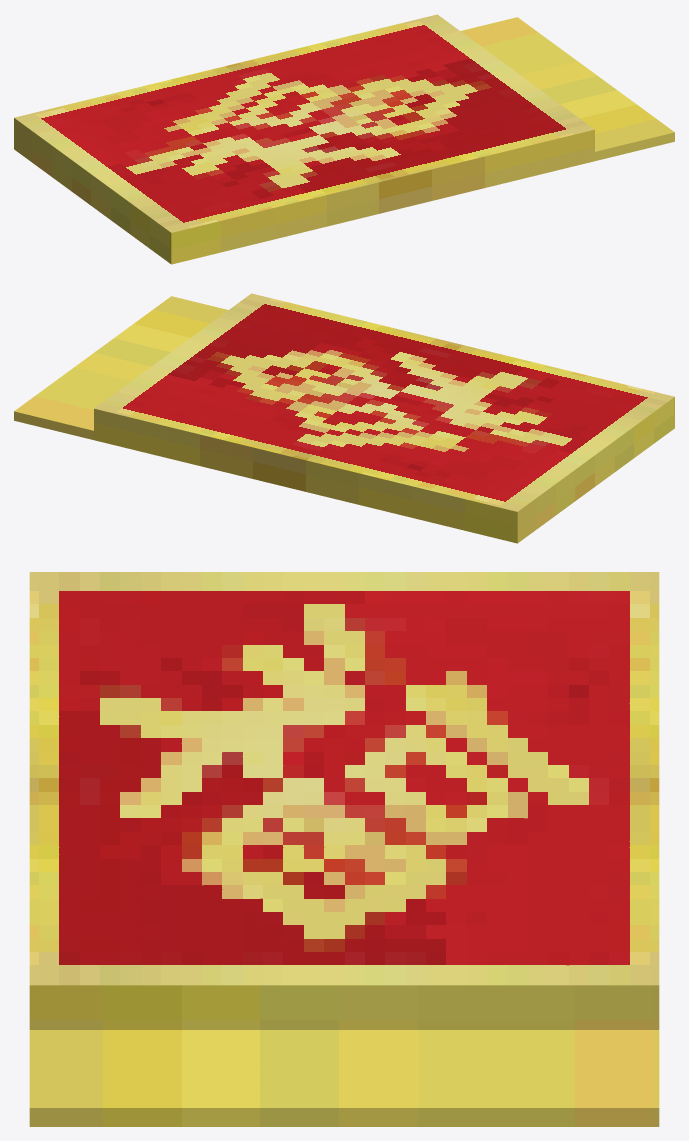
Rendered from envolope_open.fbx.
The picture shows the model from 3 angles, top to bottom: view 1: azimuth 30°, elevation 25°; view 2: azimuth 150°, elevation 25°; view 3: azimuth 270°, elevation 25°; orthographic projection. The views are drawn at different scales.
Parts seen in each view (by area): view 1: red_env_open; view 2: red_env_open; view 3: red_env_open.
Part boxes in pixels (x1,y1,x2,y2): red_env_open: (14,14,674,264); red_env_open: (14,293,674,543); red_env_open: (29,572,659,1126).
Size of the model in its own units: 1.44 by 0.0862 by 0.7777.
